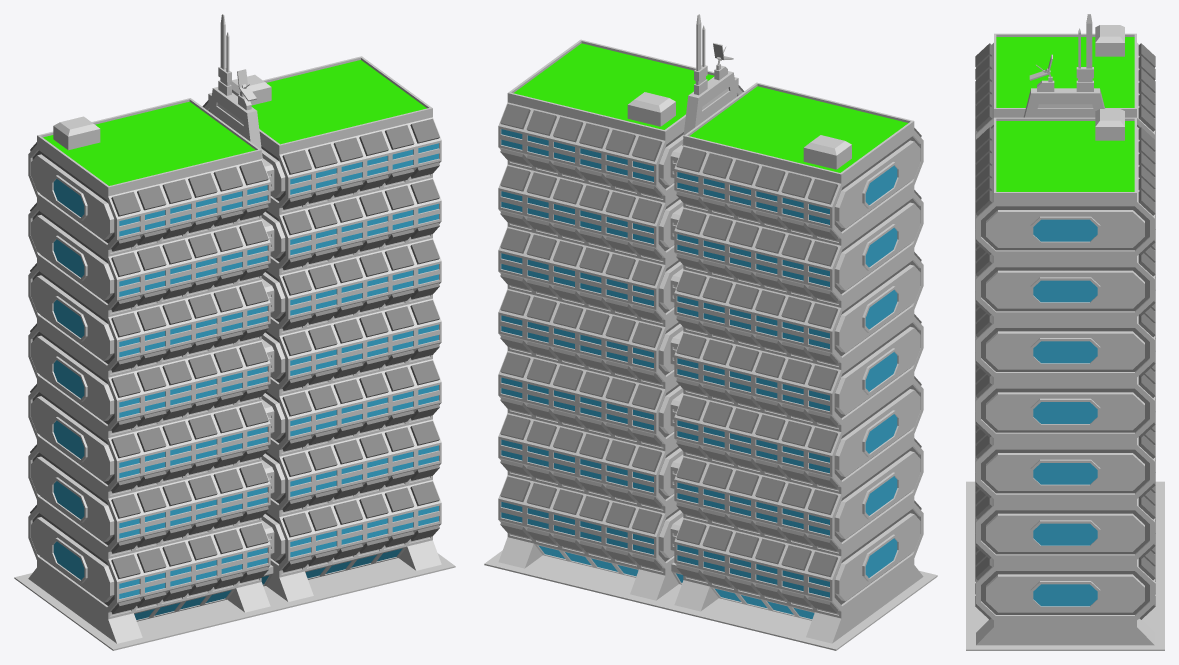
File: Chroma Skyscraper S.fbx
The picture shows the model from 3 angles, left to right: view 1: azimuth 30°, elevation 25°; view 2: azimuth 150°, elevation 25°; view 3: azimuth 270°, elevation 25°; orthographic projection. The views are drawn at different scales.
Visible parts, largest first — view 1: Cube, Ground; view 2: Cube, Ground; view 3: Cube, Ground.
Part boxes in pixels (box(x1,y1,x2,y2)): Cube: box(28, 14, 441, 643); Ground: box(14, 553, 455, 650); Cube: box(498, 14, 923, 643); Ground: box(484, 550, 937, 650); Cube: box(975, 14, 1155, 645); Ground: box(966, 481, 1164, 650).
Bounding box in the file's own units: 4000 × 6138 × 2000.
